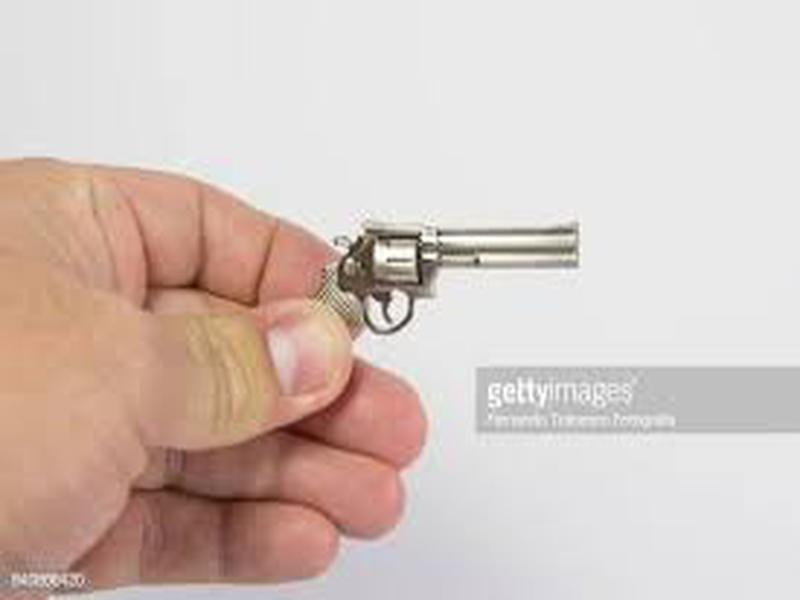gun: (321, 219, 586, 338)
